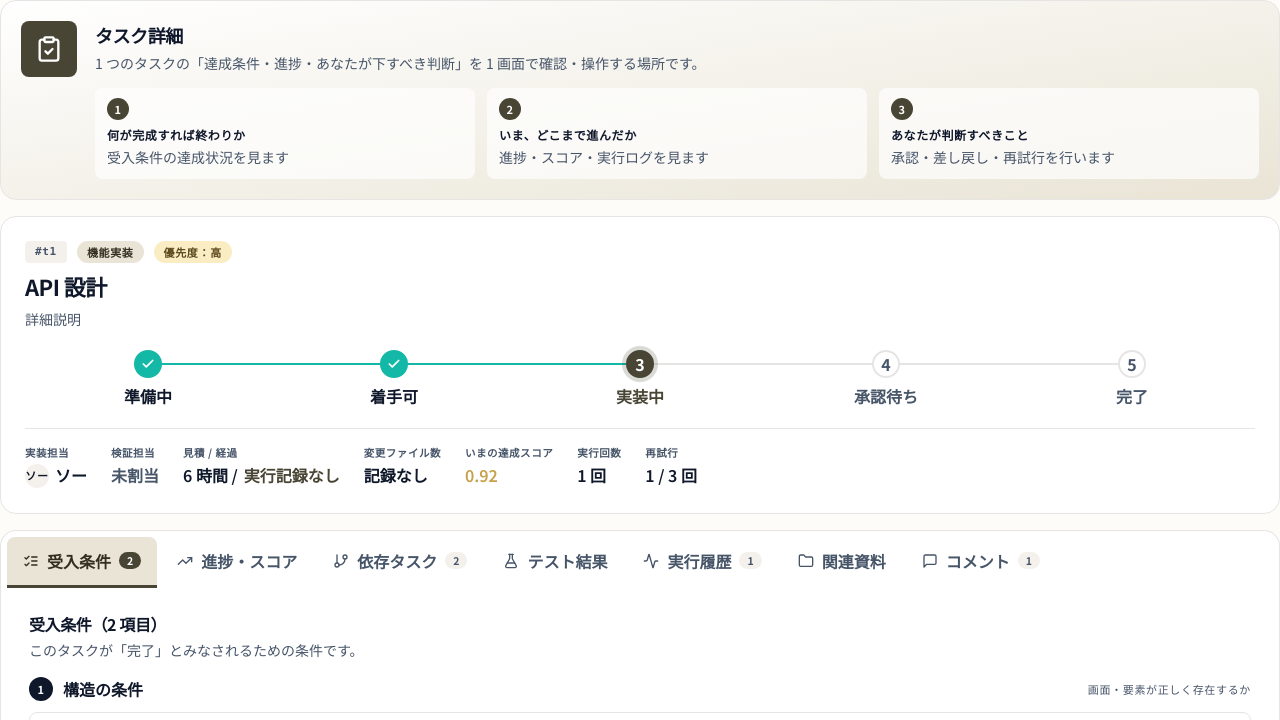
Test: S-I02 TaskDetailContainer (T-UC-15) › renders AC (default tab, 3-tier), history link, deps chips and comments per tab
Expected: the text "構造の条件" is shown, [63, 677, 143, 702]
// 依存タスクタブ — 前提/後続がタイトル解決される
What coordinates should you click on to do the following:
click the tab "依存タスク 2"
I would click on:
 (400, 562)
Its box is [317, 537, 483, 588].
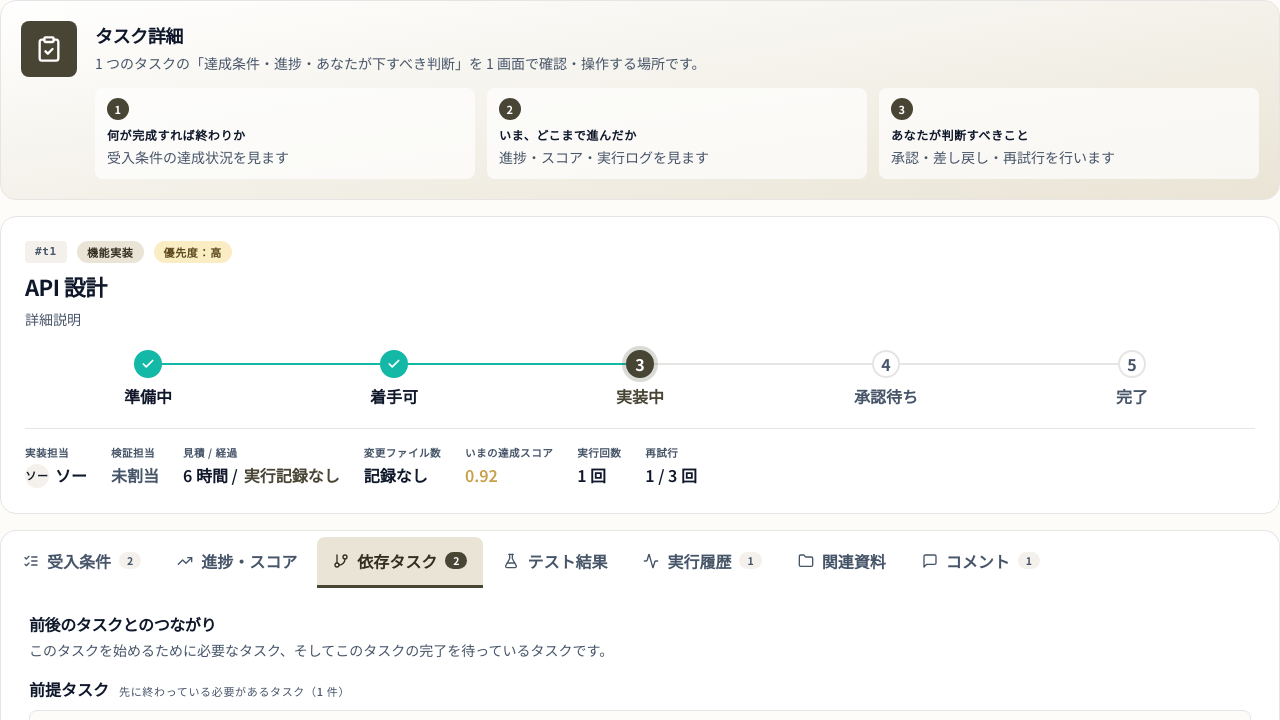
What coordinates should you click on to do the following:
click the tab "実行履歴 1"
I would click on:
 (703, 562)
Its box is [628, 537, 778, 588].
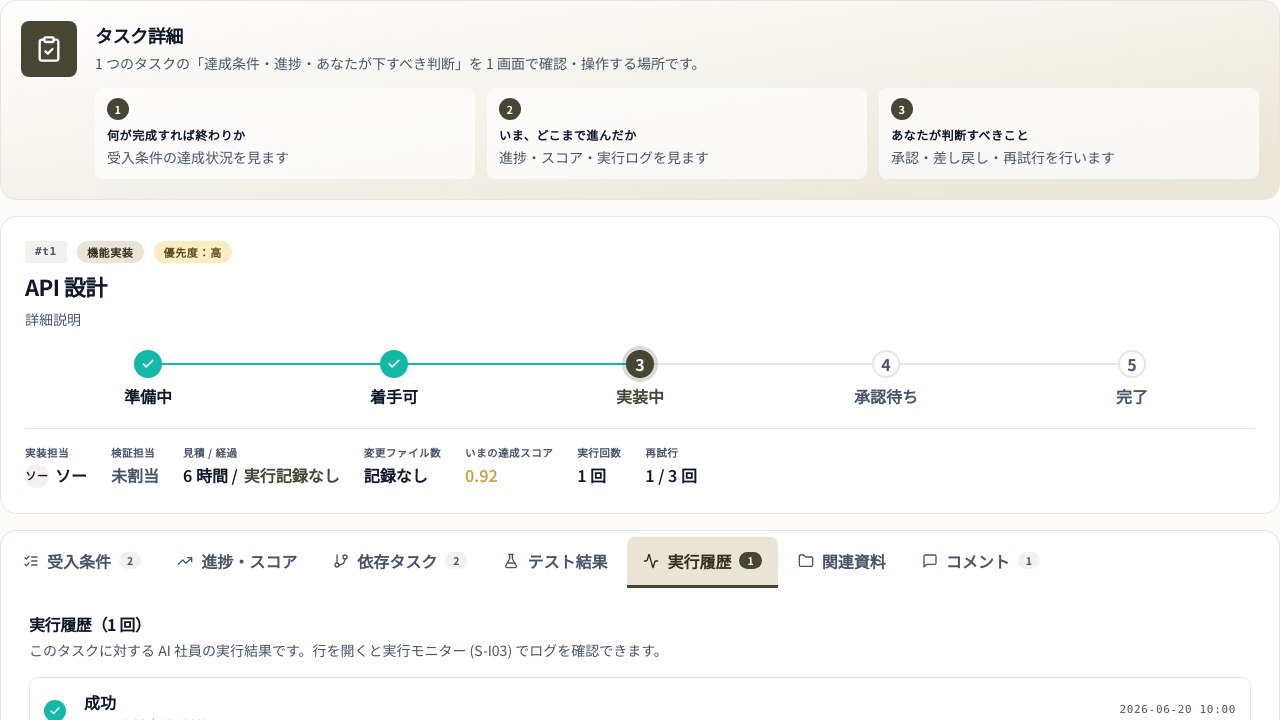
Result: the text "成功" is shown at [84, 690, 116, 714]
// コメントタブ — 一覧 + 生 UUID を出さない
What coordinates should you click on to do the following:
click the tab "コメント 1"
I would click on:
 (981, 562)
Its box is [906, 537, 1056, 588].
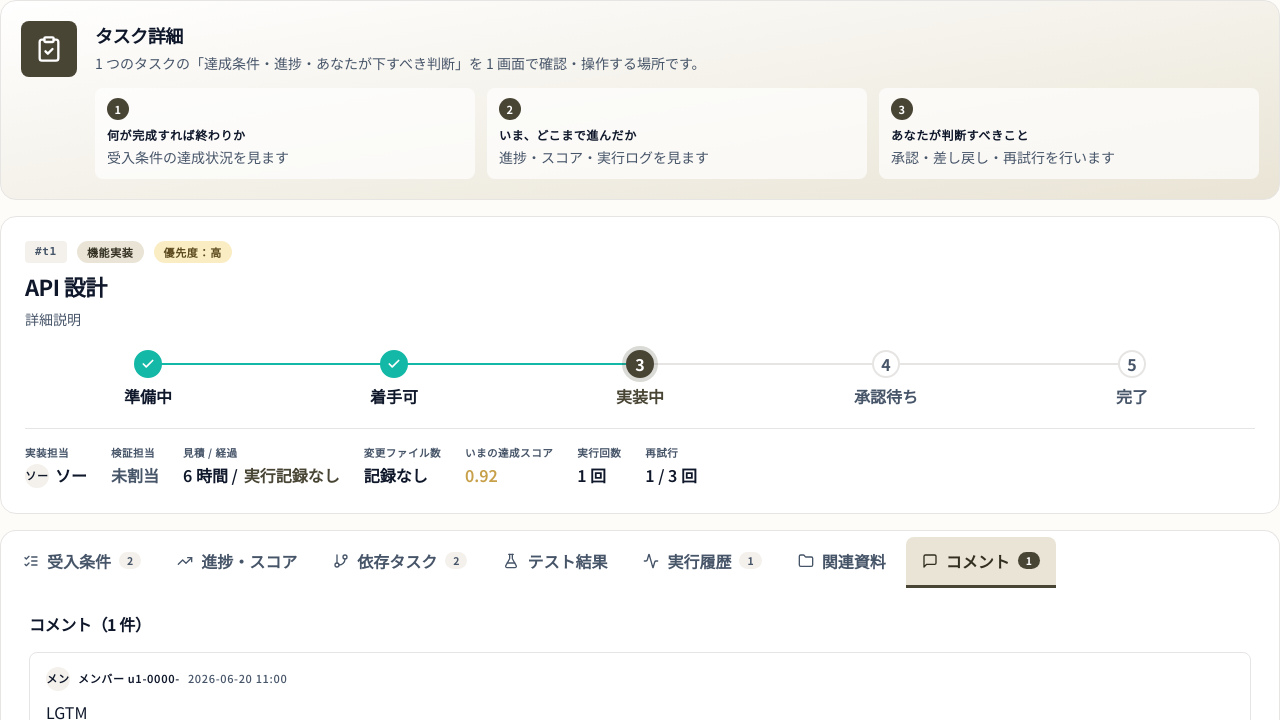
Result: the text "メンバー u1-0000-" is shown at [78, 670, 180, 687]
